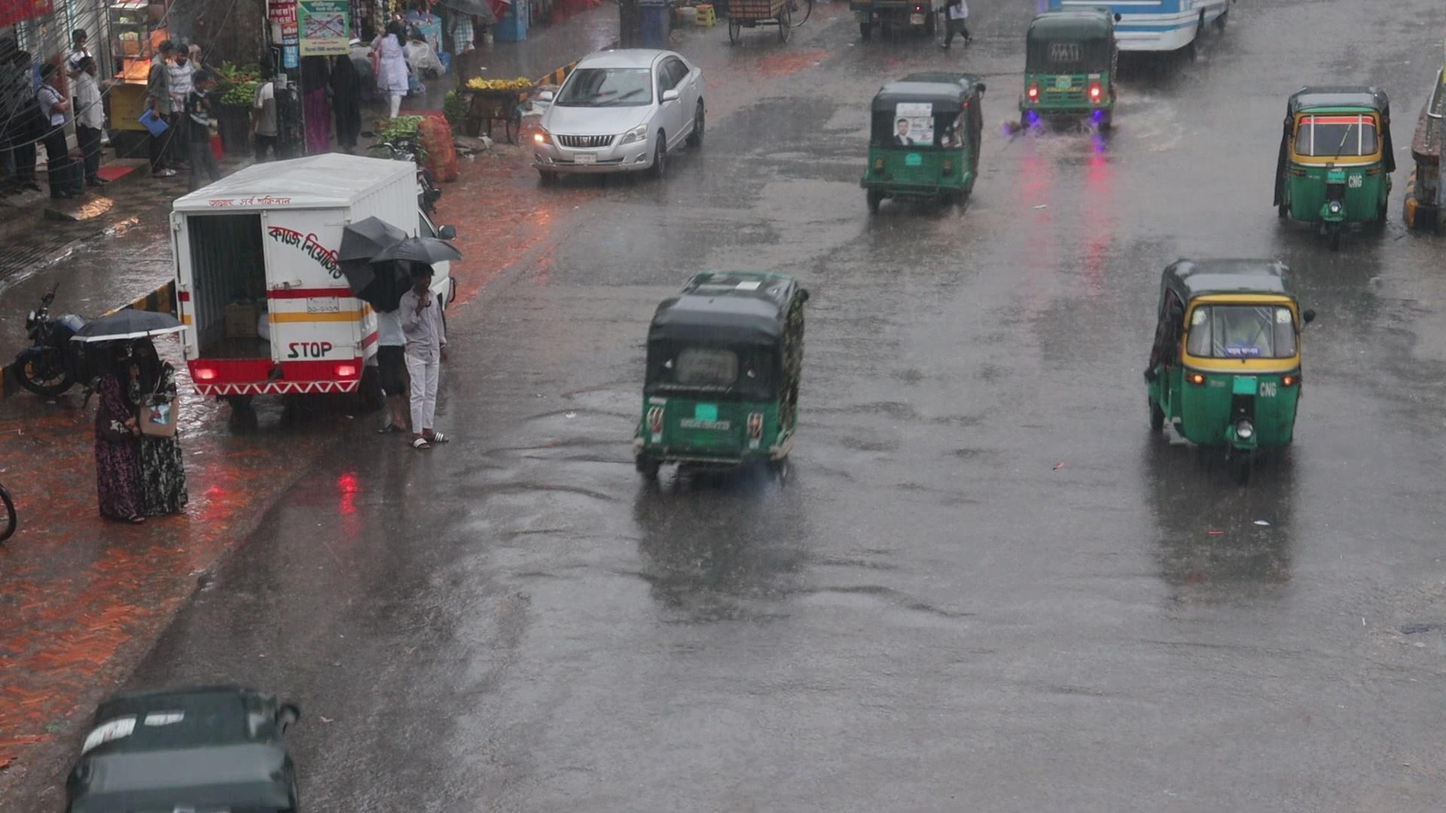Car: (529, 46, 709, 180)
